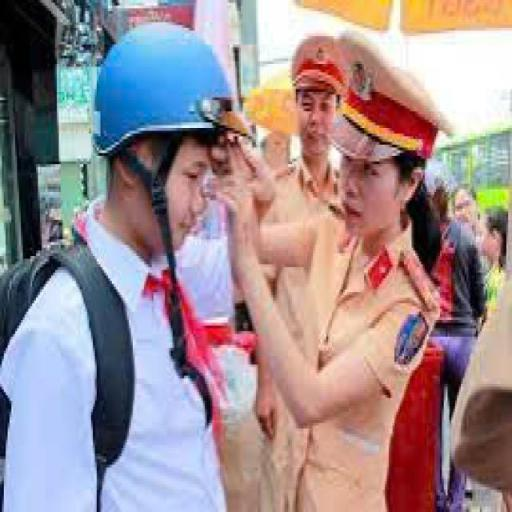with helmet: (91, 22, 256, 168)
